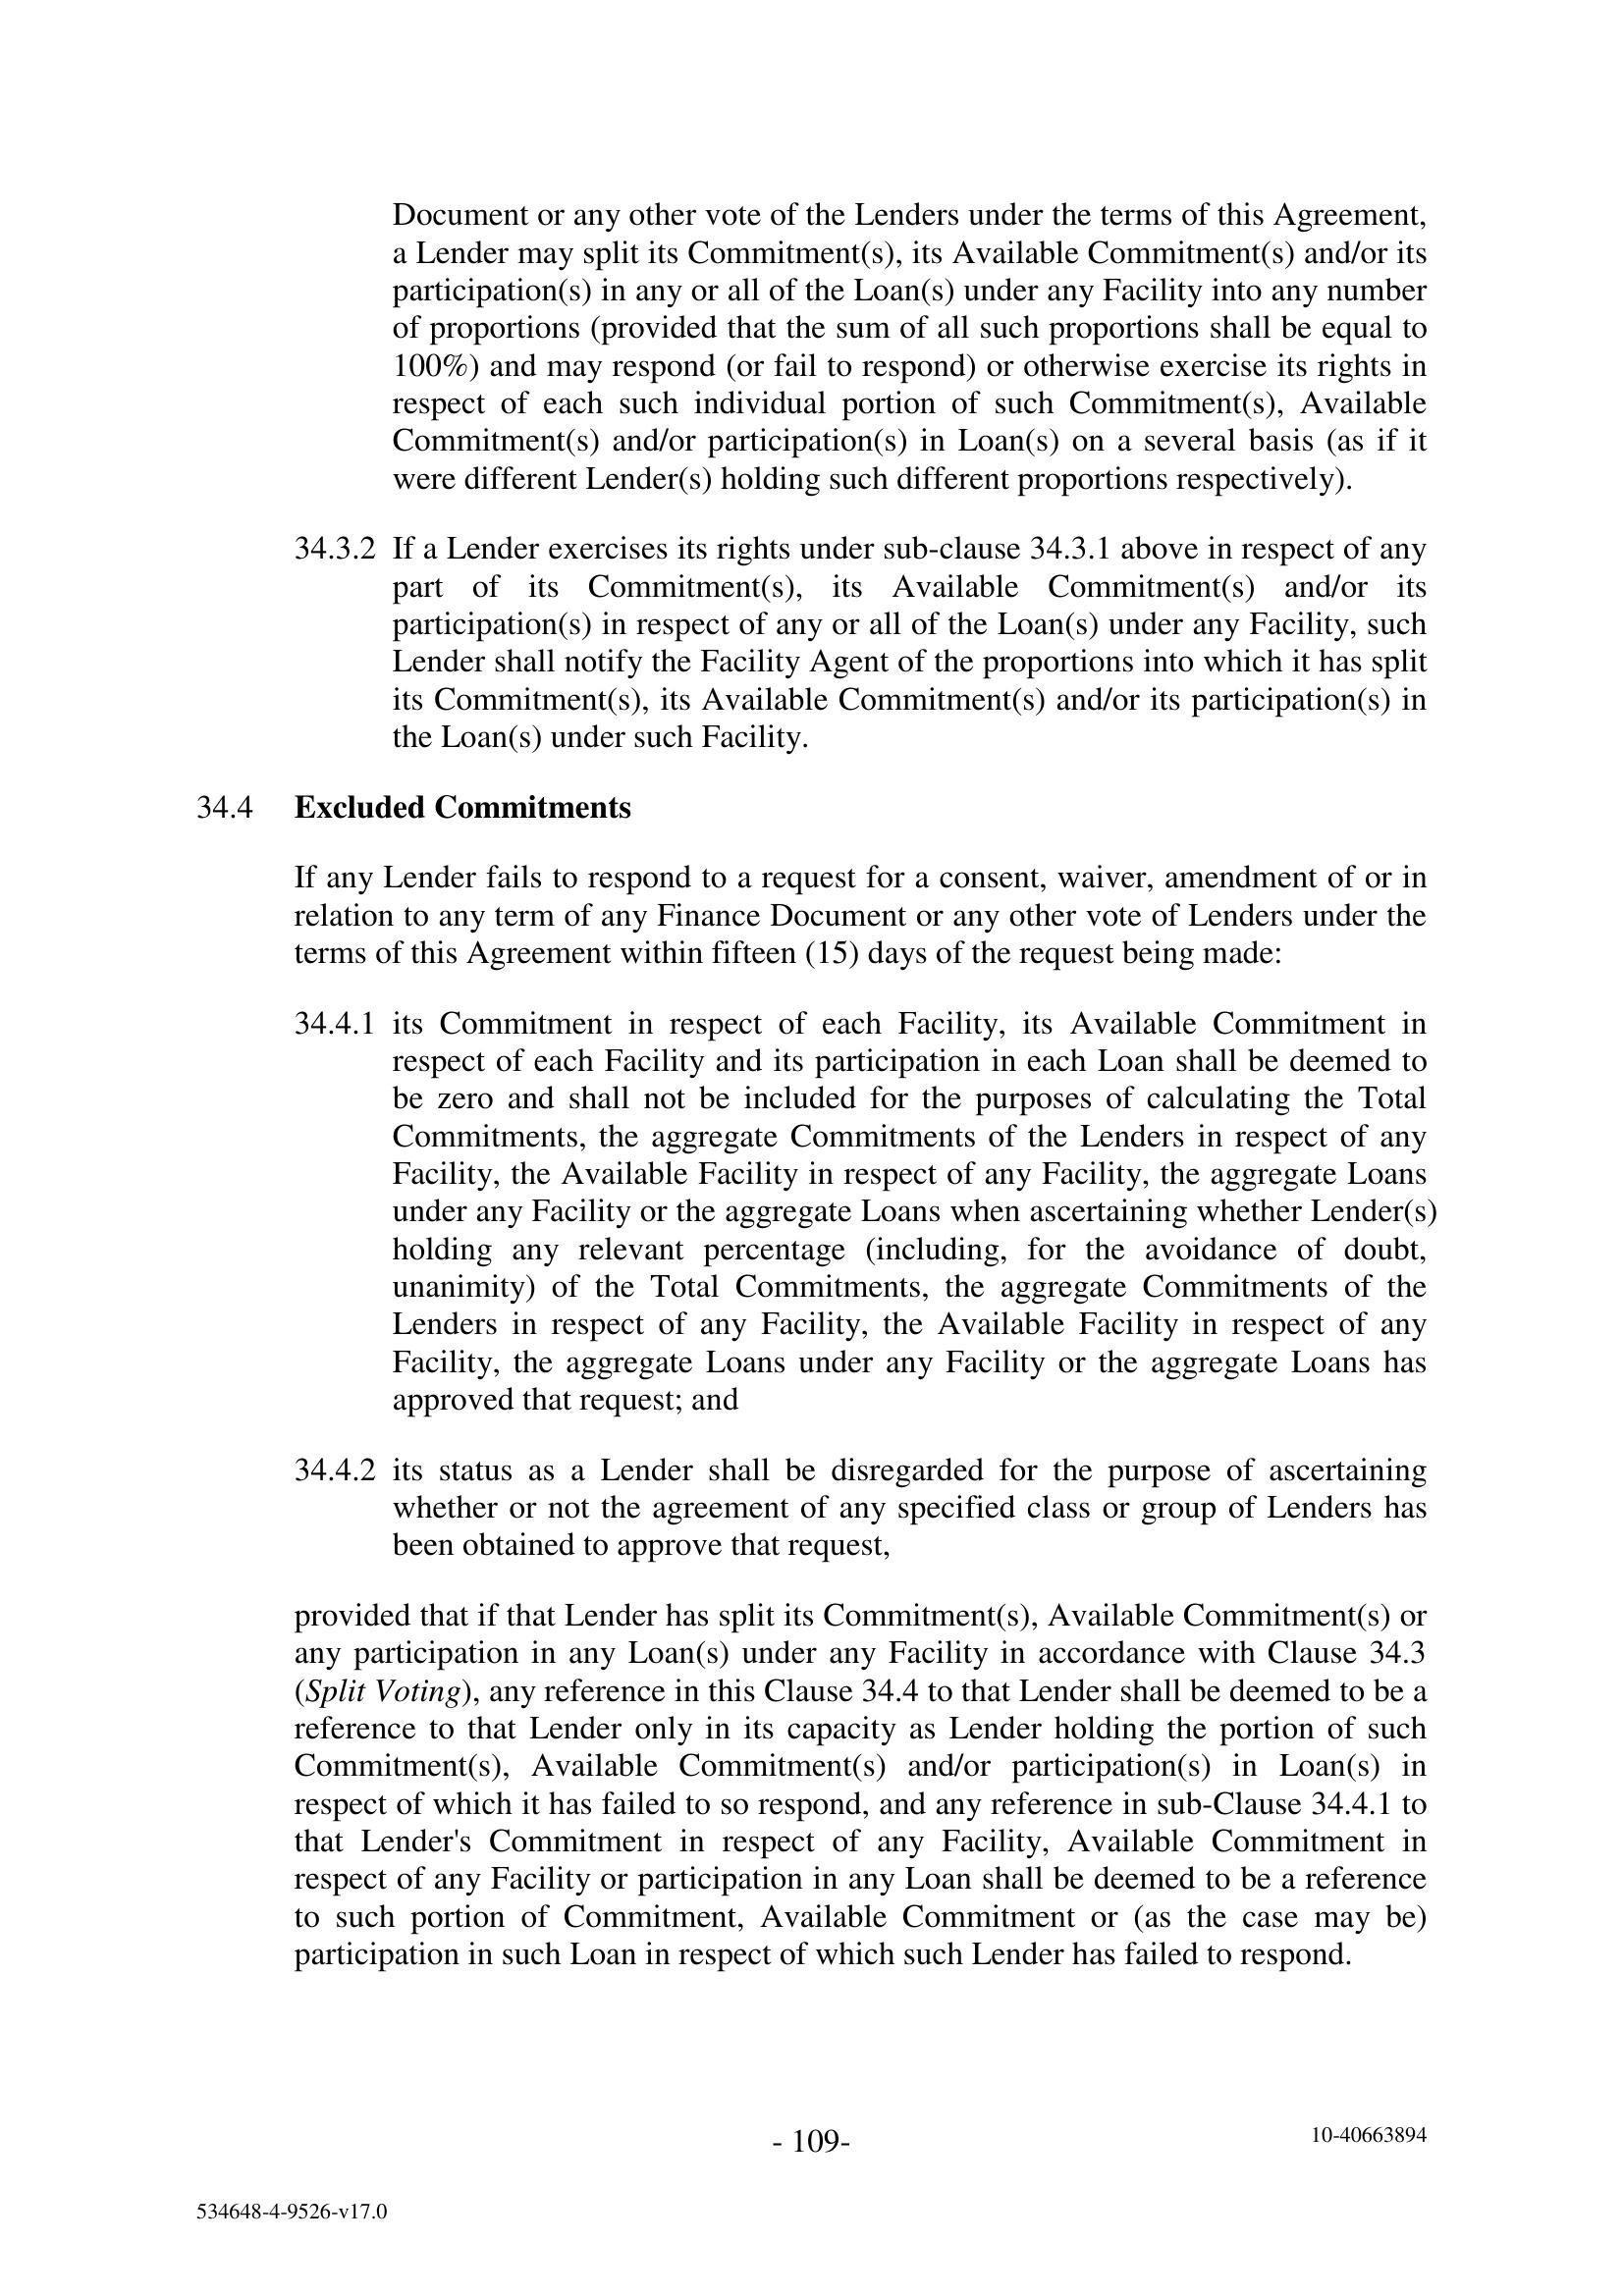pageno: (732, 2073, 901, 2208)
tag: (118, 2171, 455, 2264), (1217, 2087, 1518, 2180)
